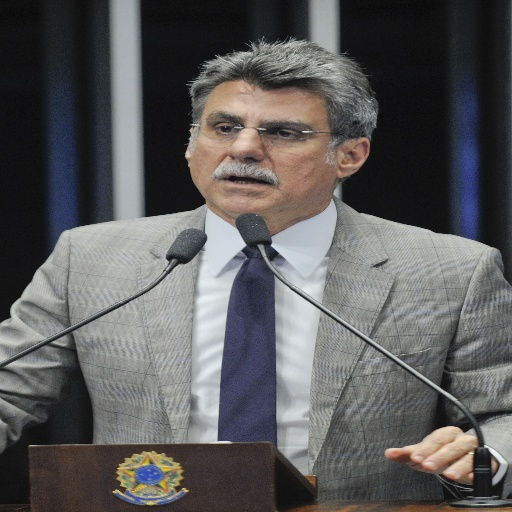hand: (385, 421, 484, 482)
